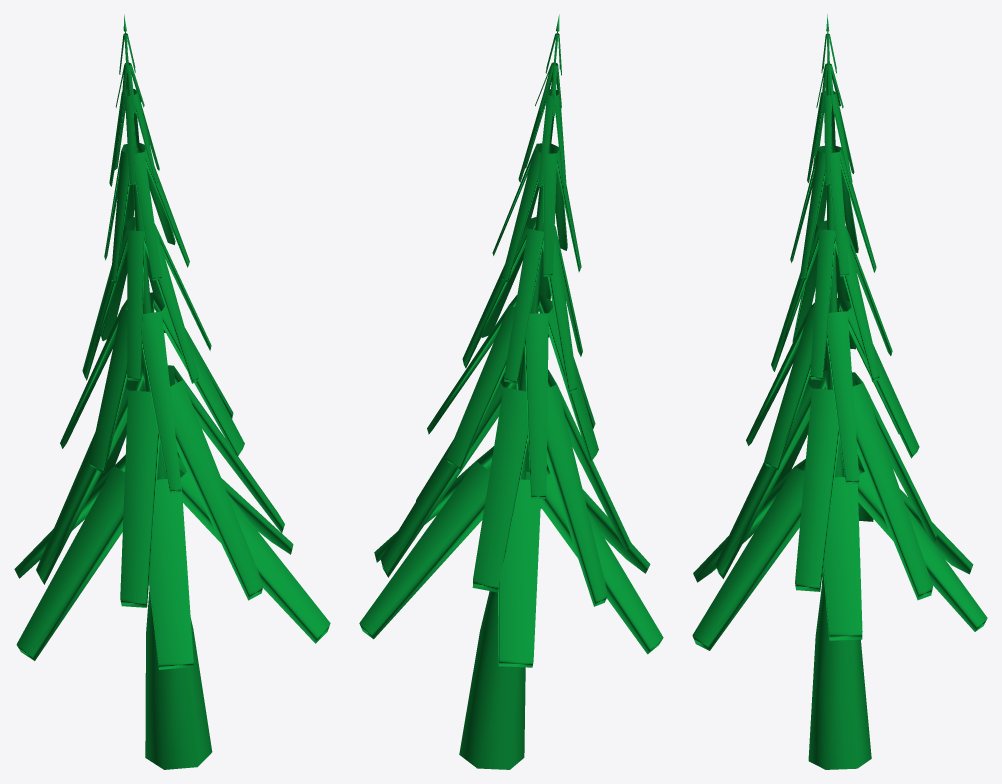
The model's file is Pine Tree.fbx.
The picture shows the model from 3 angles, left to right: view 1: azimuth 30°, elevation 25°; view 2: azimuth 150°, elevation 25°; view 3: azimuth 270°, elevation 25°; orthographic projection. The views are drawn at different scales.
Visible parts, largest first — view 1: Pine_Tree_01; view 2: Pine_Tree_01; view 3: Pine_Tree_01.
Boxes of the visible parts, x1,y1,x2,y2 form: Pine_Tree_01: [14, 14, 330, 769]; Pine_Tree_01: [359, 14, 663, 769]; Pine_Tree_01: [692, 14, 987, 769].
Size of the model in its own units: 201 by 541 by 201.
